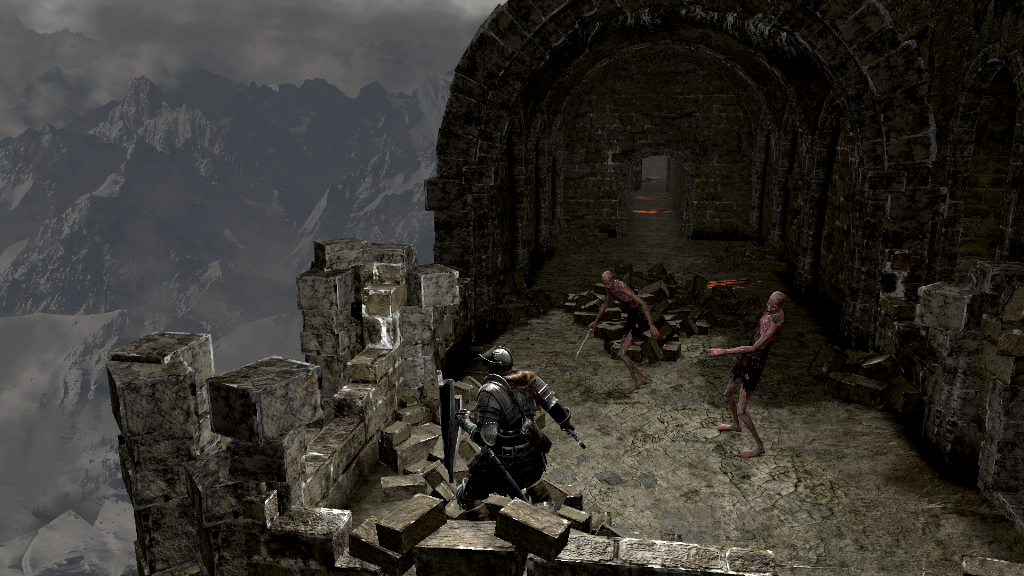hollow: (705, 290, 786, 459), (589, 268, 661, 393)
player: (433, 346, 590, 501)
